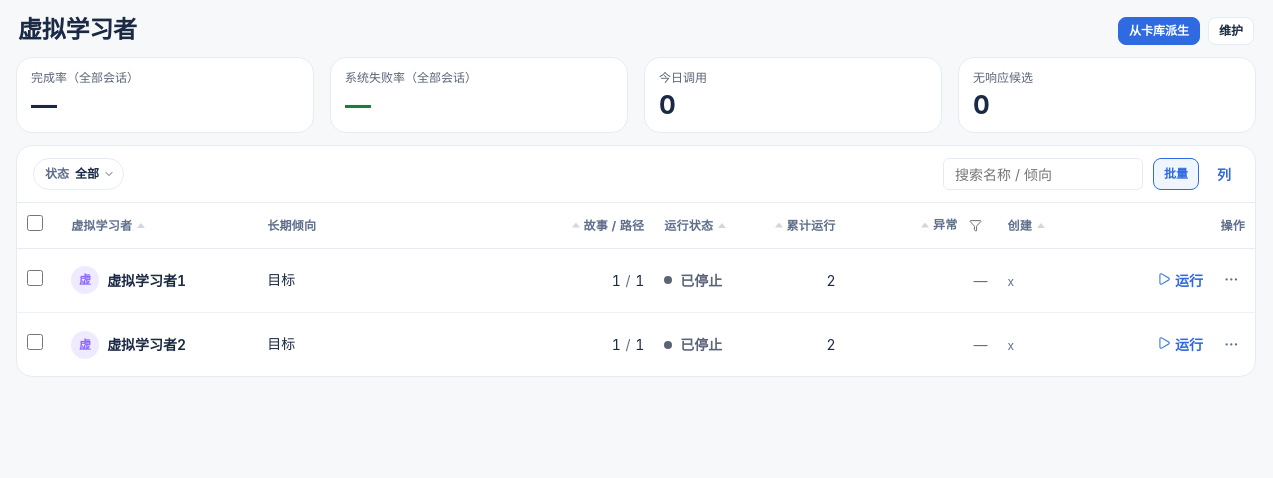
Scenario: VirtualLearners 批量管理与生命周期视图 › 复选框勾选后出现批量条：已选数量 + 取消选择
Expected: the text "已选" is not shown
Click the checkbox named "选择 虚拟学习者1".
click(35, 278)  # box top-left (27, 270), bottom-right (43, 286)
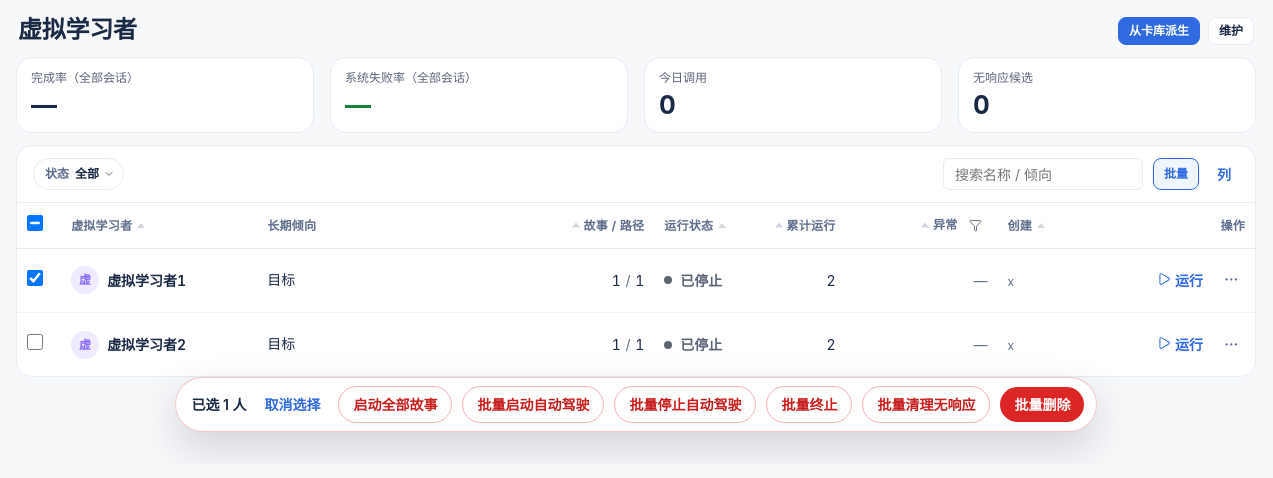
Expected: the text "已选 1 人" is shown, top-left (192, 393), bottom-right (246, 416)
Expected: the text "批量终止" is shown, top-left (766, 386), bottom-right (852, 424)
Expected: the text "批量清理无响应" is shown, top-left (862, 386), bottom-right (990, 424)
Click the button "取消选择".
click(292, 405)  # box top-left (256, 389), bottom-right (328, 420)
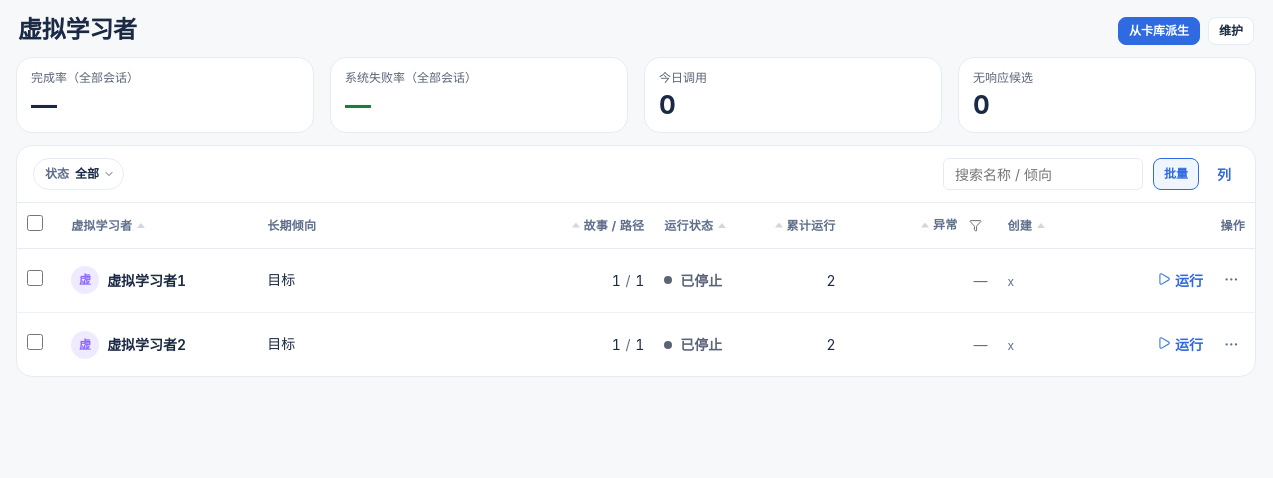
Expected: the text "已选" is gone
